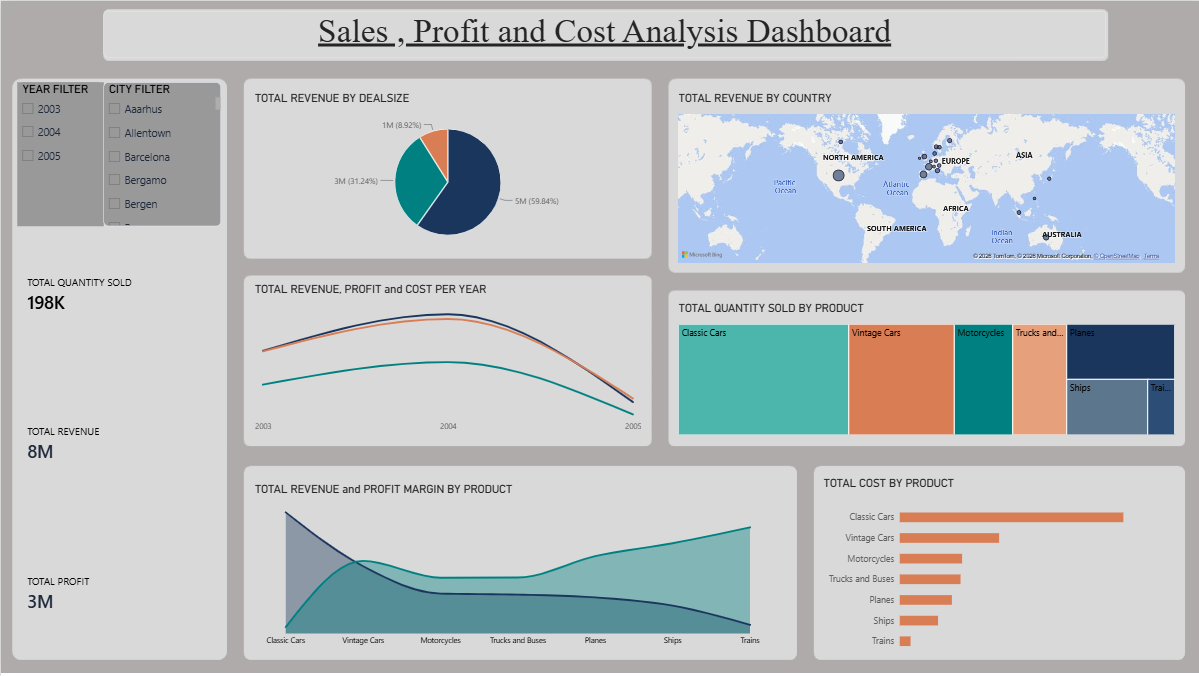

The dashboard page shown, as its layout file describes it:
{"tool":"powerbi","page":{"name":"OverView","canvas":[1920,1080],"ordinal":0},"visuals":[{"type":"cardVisual","fields":{"Data":["Table.TOTAL REVENUE"]},"box":[26,606,326,206],"z":0},{"type":"cardVisual","fields":{"Data":["Table.TOTAL PROFIT"]},"box":[26,844,326,208],"z":1000},{"type":"textbox","box":[164,16,1604,74],"z":2000},{"type":"map","title":"TOTAL REVENUE BY COUNTRY","fields":{"Category":["sales_data_sample.COUNTRY"],"Size":["Table.TOTAL REVENUE"]},"box":[1068,130,826,306],"z":3000},{"type":"treemap","title":"TOTAL QUANTITY SOLD BY PRODUCT","fields":{"Group":["sales_data_sample.PRODUCT"],"Values":["Table.TOTAL QUANTITY SOLD"]},"box":[1068,466,826,244],"z":4000},{"type":"lineChart","title":"TOTAL REVENUE, PROFIT and COST PER YEAR","fields":{"Category":["sales_data_sample.YEAR"],"Y":["Table.TOTAL REVENUE"],"Y2":["Table.TOTAL PROFIT","Table.TOTAL COST"]},"box":[390,436,650,274],"z":5000},{"type":"pieChart","title":"TOTAL REVENUE BY DEALSIZE","fields":{"Category":["sales_data_sample.DEALSIZE"],"Y":["Table.TOTAL REVENUE"]},"box":[390,130,650,284],"z":6000},{"type":"cardVisual","fields":{"Data":["Table.TOTAL QUANTITY SOLD"]},"box":[26,366,326,208],"z":7000},{"type":"clusteredBarChart","title":"TOTAL COST BY PRODUCT","fields":{"Category":["sales_data_sample.PRODUCT"],"Y":["Table.TOTAL COST"]},"box":[1300,746,592,316],"z":8000},{"type":"areaChart","title":"TOTAL REVENUE and PROFIT MARGIN BY PRODUCT","fields":{"Category":["sales_data_sample.PRODUCT"],"Y":["Table.TOTAL REVENUE"],"Y2":["Table.PROFIT MARGIN"]},"box":[390,756,874,296],"z":8001},{"type":"slicer","fields":{"Values":["sales_data_sample.YEAR"]},"box":[26,130,138,230],"z":8002},{"type":"slicer","fields":{"Values":["sales_data_sample.CITY"]},"box":[164,130,188,230],"z":8003}]}

Visuals, with their boxes in screenshot pixels (x1, y1, x2, y2), scaled from the page's 1920x1080 canvas onto the 1199x676 screenshot:
cardVisual - Table.TOTAL REVENUE: 16, 379, 220, 508
cardVisual - Table.TOTAL PROFIT: 16, 528, 220, 658
textbox: 102, 10, 1104, 56
"TOTAL REVENUE BY COUNTRY" map: 667, 81, 1183, 273
"TOTAL QUANTITY SOLD BY PRODUCT" treemap: 667, 292, 1183, 444
"TOTAL REVENUE, PROFIT and COST PER YEAR" lineChart: 244, 273, 649, 444
"TOTAL REVENUE BY DEALSIZE" pieChart: 244, 81, 649, 259
cardVisual - Table.TOTAL QUANTITY SOLD: 16, 229, 220, 359
"TOTAL COST BY PRODUCT" clusteredBarChart: 812, 467, 1182, 665
"TOTAL REVENUE and PROFIT MARGIN BY PRODUCT" areaChart: 244, 473, 789, 658
slicer - sales_data_sample.YEAR: 16, 81, 102, 225
slicer - sales_data_sample.CITY: 102, 81, 220, 225
